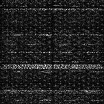lte: (1, 64, 104, 69), (1, 7, 104, 10), (1, 50, 104, 53)
